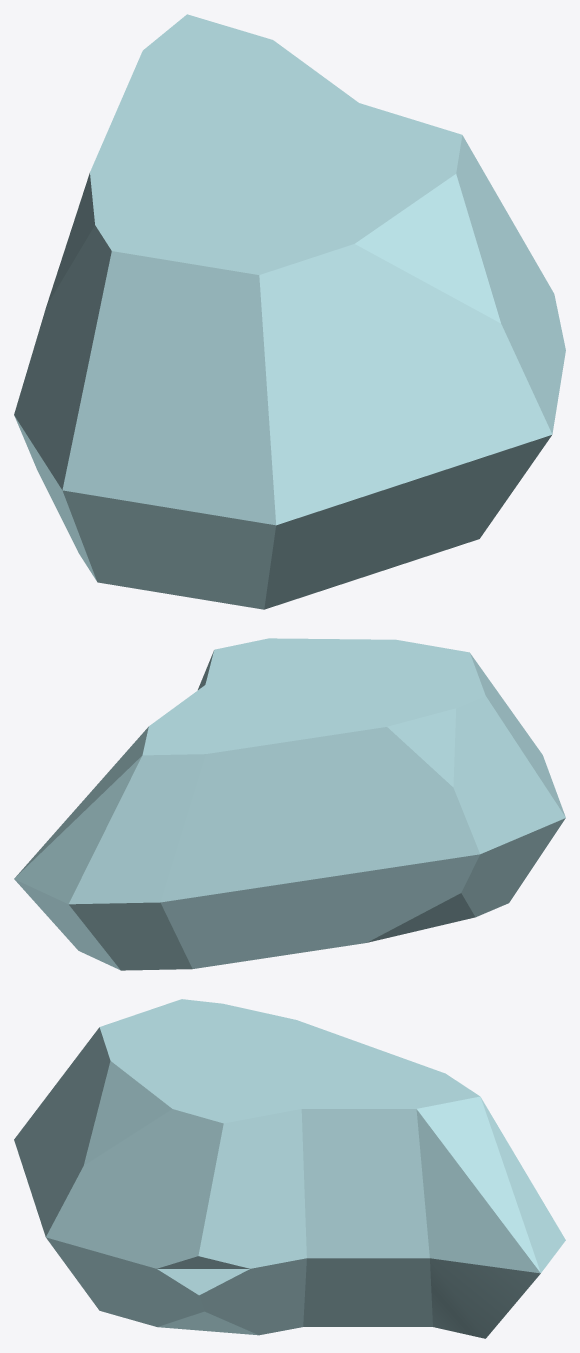
Rendered from stone_largeB.dae.
3 views of the same model, one above another, from view 1: azimuth 30°, elevation 25°; view 2: azimuth 150°, elevation 25°; view 3: azimuth 270°, elevation 25° (orthographic). The views are drawn at different scales.
Visible parts, largest first — view 1: stone_largeB; view 2: stone_largeB; view 3: stone_largeB.
Boxes of the visible parts, <box> form: stone_largeB: <box>14,14,565,609</box>; stone_largeB: <box>14,638,565,970</box>; stone_largeB: <box>14,999,565,1338</box>.
Size of the model in its own units: 0.7667 by 0.4303 by 1.02.
